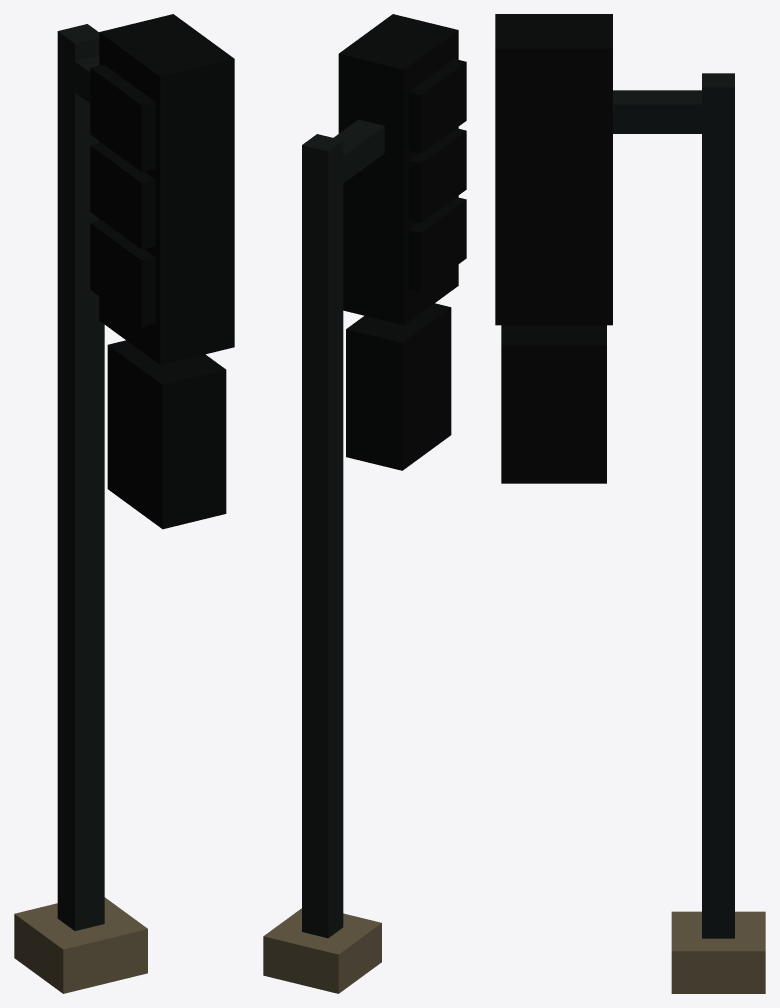
File: SM_Bogota_SemaforoPoste.fbx
3 views of the same model, side by side, from view 1: azimuth 30°, elevation 25°; view 2: azimuth 150°, elevation 25°; view 3: azimuth 270°, elevation 25° (orthographic). The views are drawn at different scales.
Visible parts, largest first — view 1: SM_Bogota_SemaforoPoste; view 2: SM_Bogota_SemaforoPoste; view 3: SM_Bogota_SemaforoPoste.
Boxes of the visible parts, x1,y1,x2,y2 form: SM_Bogota_SemaforoPoste: (14,14,234,993); SM_Bogota_SemaforoPoste: (263,14,466,993); SM_Bogota_SemaforoPoste: (495,14,765,993).
Size of the model in its own units: 0.44 by 1.15 by 4.43.
